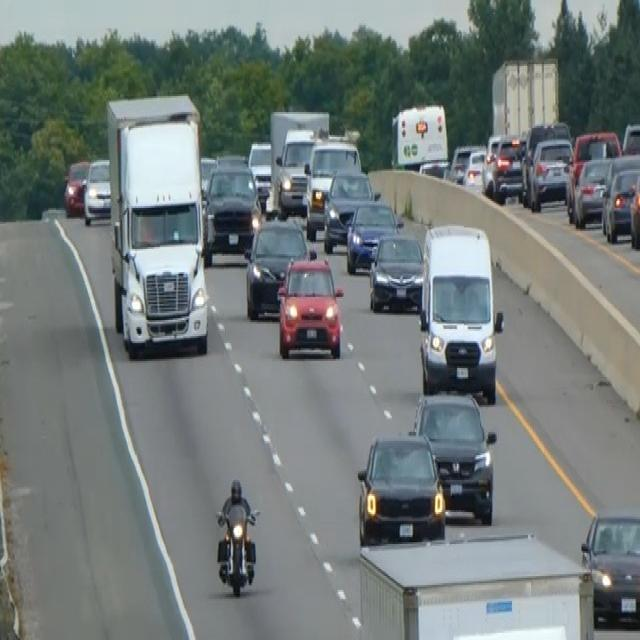car: (409, 390, 496, 524), (356, 428, 446, 546), (244, 215, 313, 320), (276, 254, 344, 359), (580, 508, 639, 628), (303, 137, 361, 238), (203, 162, 261, 260), (565, 130, 621, 220), (368, 227, 424, 313), (322, 165, 377, 252), (345, 197, 403, 274), (273, 126, 320, 214), (528, 135, 573, 208), (601, 156, 639, 242), (482, 131, 526, 201), (572, 154, 612, 228), (82, 156, 111, 224), (449, 142, 486, 190), (247, 139, 272, 208), (63, 158, 90, 217), (628, 163, 639, 249), (621, 119, 639, 157)
lorry: (105, 91, 210, 359)
minibus: (417, 220, 504, 402)
motorcycle: (214, 502, 259, 596)
